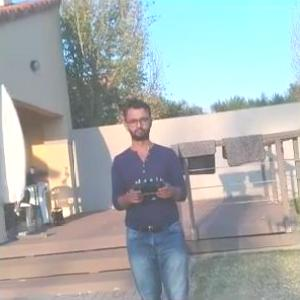follow: (106, 95, 194, 299)
